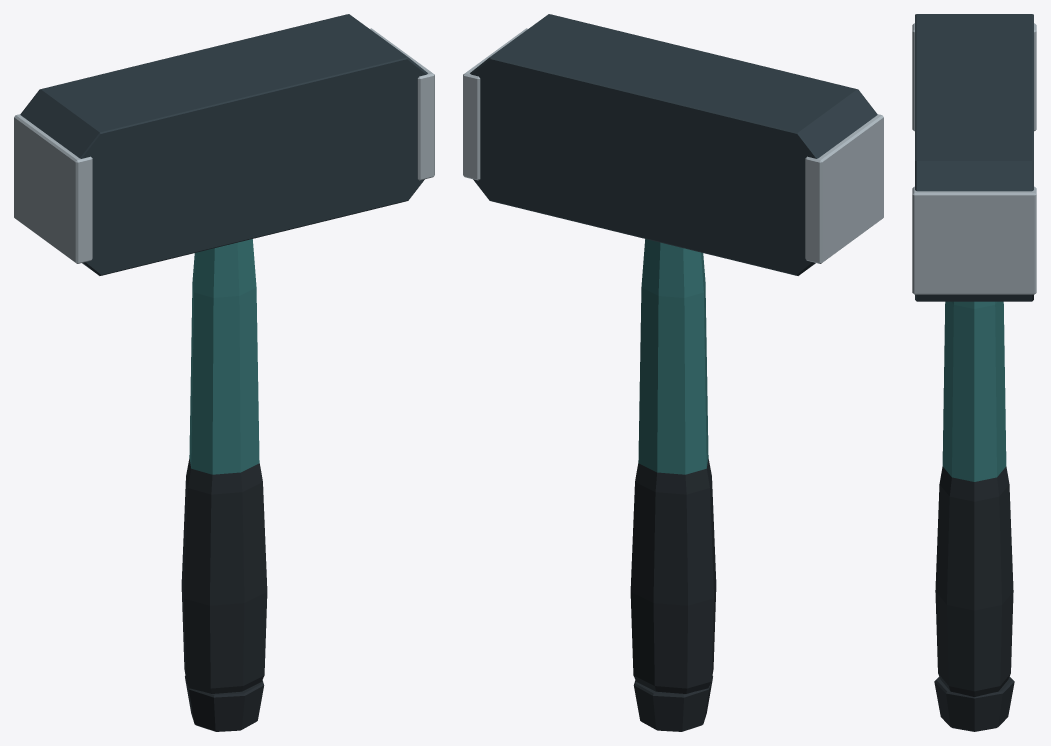
The model's file is b06_club_hammer.glb.
The picture shows the model from 3 angles, left to right: view 1: azimuth 30°, elevation 25°; view 2: azimuth 150°, elevation 25°; view 3: azimuth 270°, elevation 25°; orthographic projection. The views are drawn at different scales.
Visible parts, largest first — view 1: b06_club_hammer; view 2: b06_club_hammer; view 3: b06_club_hammer.
Part boxes in pixels (bbox=[...]): b06_club_hammer: bbox=[14, 14, 434, 731]; b06_club_hammer: bbox=[463, 14, 883, 731]; b06_club_hammer: bbox=[912, 14, 1036, 731].
Size of the model in its own units: 0.17 by 0.292 by 0.052.
